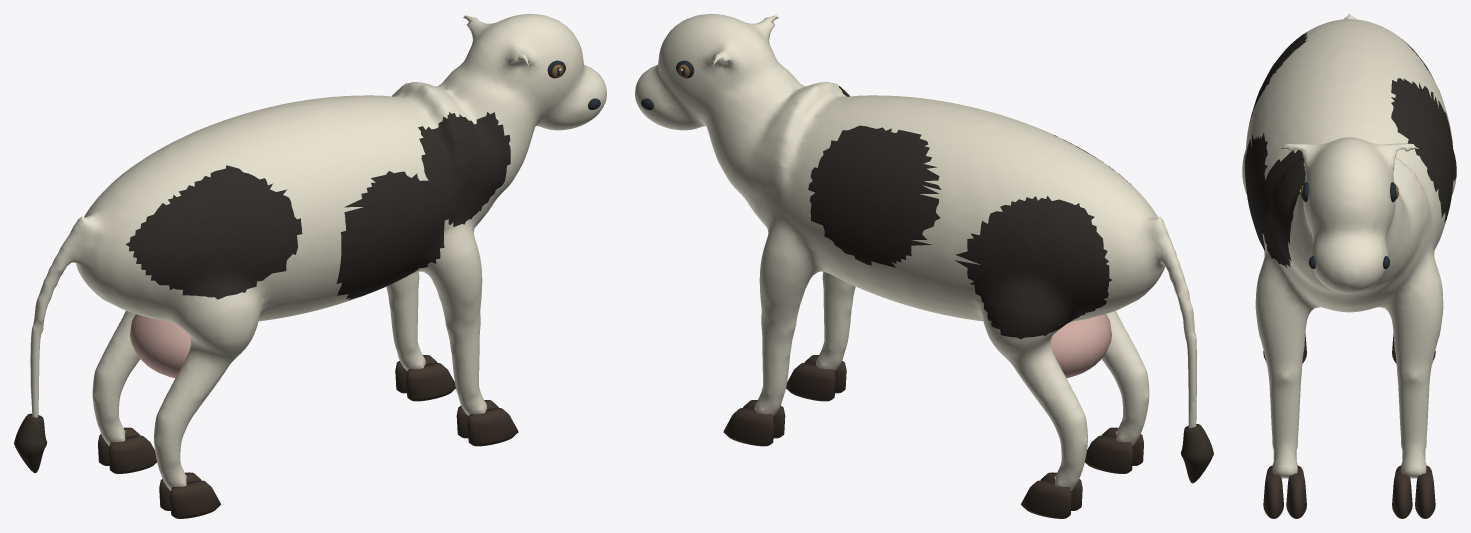
The model's file is cow.glb.
3 views of the same model, side by side, from view 1: azimuth 30°, elevation 25°; view 2: azimuth 150°, elevation 25°; view 3: azimuth 270°, elevation 25° (orthographic). The views are drawn at different scales.
Parts seen in each view (by area): view 1: Continuous anatomical skin, Udder, Cloven tapered hoof.002, Cloven tapered hoof, Cloven tapered hoof.004, Cloven tapered hoof.006, Tapered tail brush; view 2: Continuous anatomical skin, Udder, Cloven tapered hoof.007, Cloven tapered hoof.005, Cloven tapered hoof.001, Cloven tapered hoof.003, Tapered tail brush; view 3: Continuous anatomical skin, Cloven tapered hoof.001, Cloven tapered hoof.004, Cloven tapered hoof, Cloven tapered hoof.005.
Boxes of the visible parts, x1=… form: Continuous anatomical skin: x1=30, y1=14, x2=606, y2=490; Udder: x1=130, y1=314, x2=190, y2=377; Cloven tapered hoof.002: x1=170, y1=480, x2=220, y2=518; Cloven tapered hoof: x1=467, y1=408, x2=518, y2=446; Cloven tapered hoof.004: x1=406, y1=363, x2=455, y2=401; Cloven tapered hoof.006: x1=109, y1=435, x2=156, y2=473; Tapered tail brush: x1=14, y1=413, x2=47, y2=472; Continuous anatomical skin: x1=635, y1=14, x2=1196, y2=490; Udder: x1=1051, y1=314, x2=1111, y2=377; Cloven tapered hoof.007: x1=1021, y1=480, x2=1071, y2=518; Cloven tapered hoof.005: x1=723, y1=408, x2=774, y2=446; Cloven tapered hoof.001: x1=786, y1=363, x2=835, y2=401; Cloven tapered hoof.003: x1=1085, y1=435, x2=1132, y2=473; Tapered tail brush: x1=1181, y1=424, x2=1213, y2=483; Continuous anatomical skin: x1=1242, y1=14, x2=1456, y2=478; Cloven tapered hoof.001: x1=1286, y1=465, x2=1306, y2=518; Cloven tapered hoof.004: x1=1392, y1=465, x2=1412, y2=518; Cloven tapered hoof: x1=1263, y1=465, x2=1283, y2=518; Cloven tapered hoof.005: x1=1415, y1=465, x2=1435, y2=518.
Bounding box in the file's own units: 2.4 × 1.5 × 0.7323.
8 materials, 8 textured.
